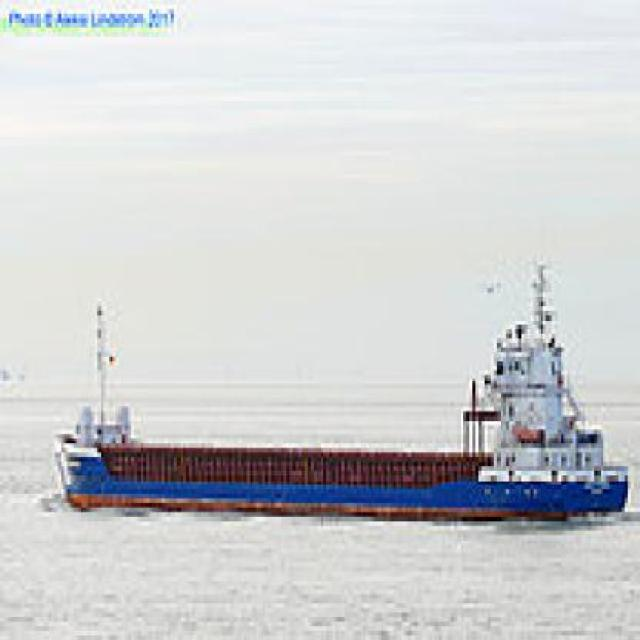container: (37, 253, 633, 531)
